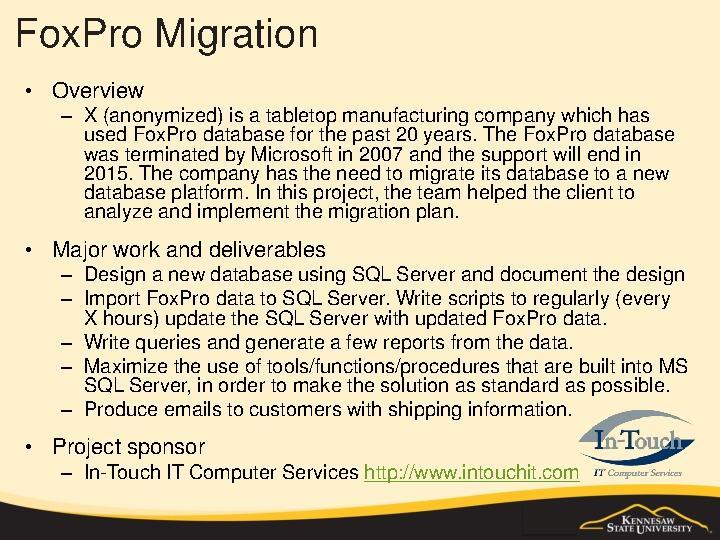paragraph: (50, 266, 699, 426), (42, 101, 715, 223), (47, 463, 648, 496)
subtitle: (48, 230, 335, 266), (47, 426, 211, 461), (51, 77, 145, 101)
title: (10, 5, 343, 60)
